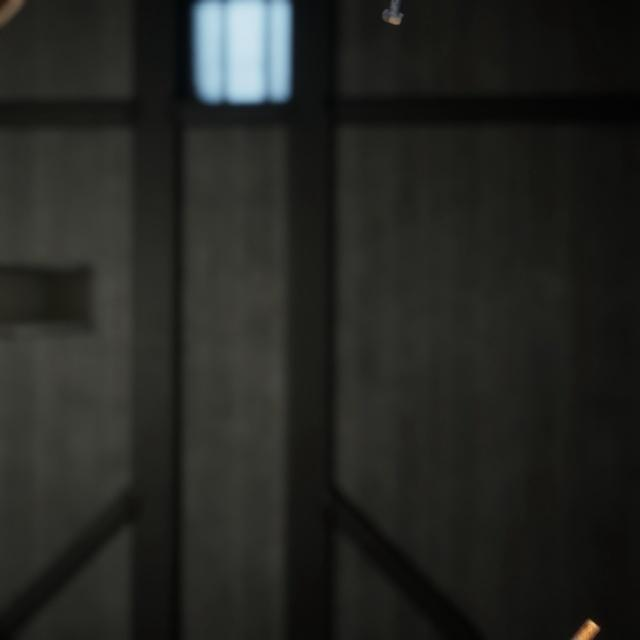bolt: (545, 589, 605, 640), (376, 0, 407, 25)
